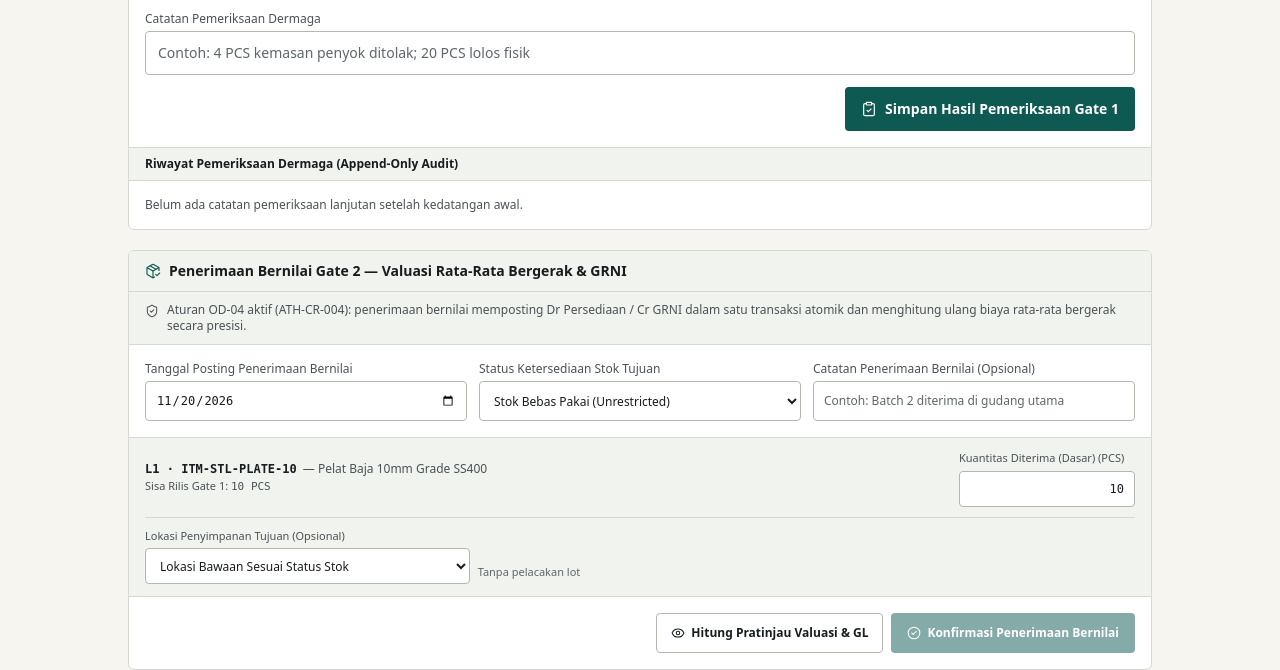
Test case: S07 Gate 2 Valued Acceptance & Inventory Valuation UI › enforces Gate 2 preview-before-confirm, closed-period blocking, and invalidation on edit
(page scrolled)
Check: the element with id "gate2-acceptance-panel" is shown, box x1=128 y1=250 x2=1152 y2=669
Check: the button with id "gate2-confirm-btn" is disabled, box x1=892 y1=613 x2=1135 y2=653
# Closed period preview keeps confirm button disabled & surfaces period_closed block
Type "2026-10-15" into the date field with id "gate2-acceptance-date" at (306, 401), box x1=145 y1=381 x2=467 y2=421
Click the button with id "gate2-preview-btn" at (770, 633), box x1=656 y1=613 x2=883 y2=653
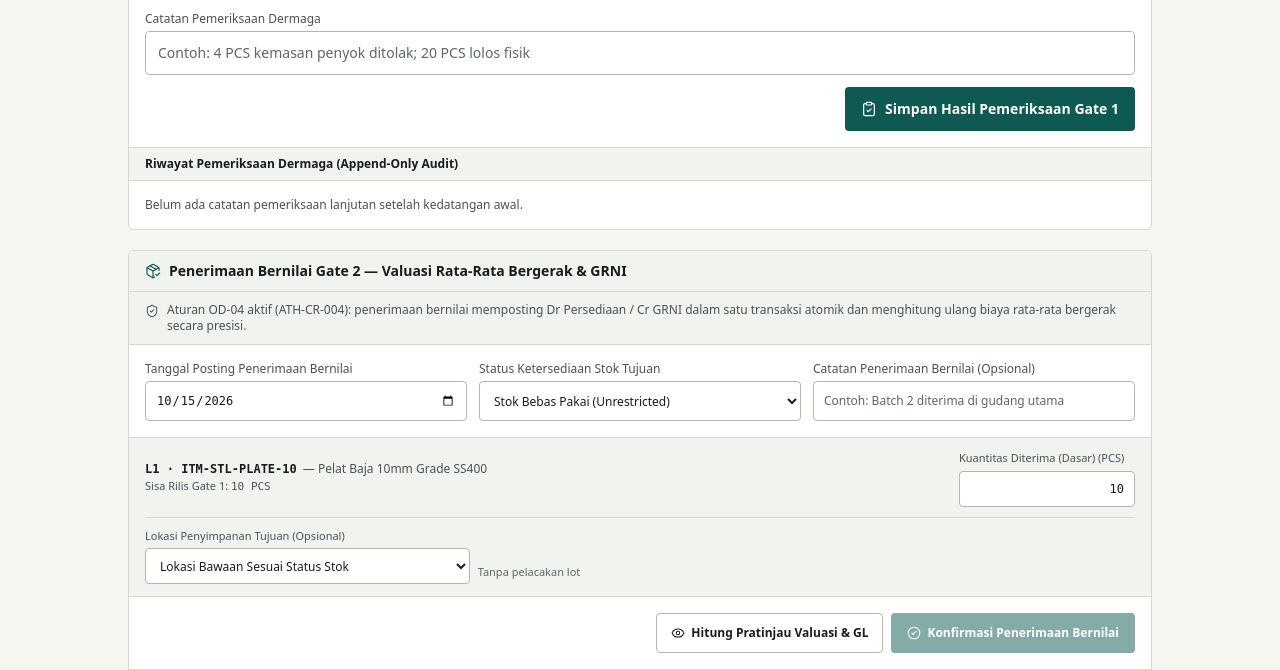
Check: the button with id "gate2-confirm-btn" is disabled, box x1=892 y1=613 x2=1135 y2=653
# Valid open period unlocks confirm button and displays moving-average recalculation
Type "2026-11-10" into the date field with id "gate2-acceptance-date" at (306, 401), box x1=145 y1=381 x2=467 y2=421
(page scrolled)
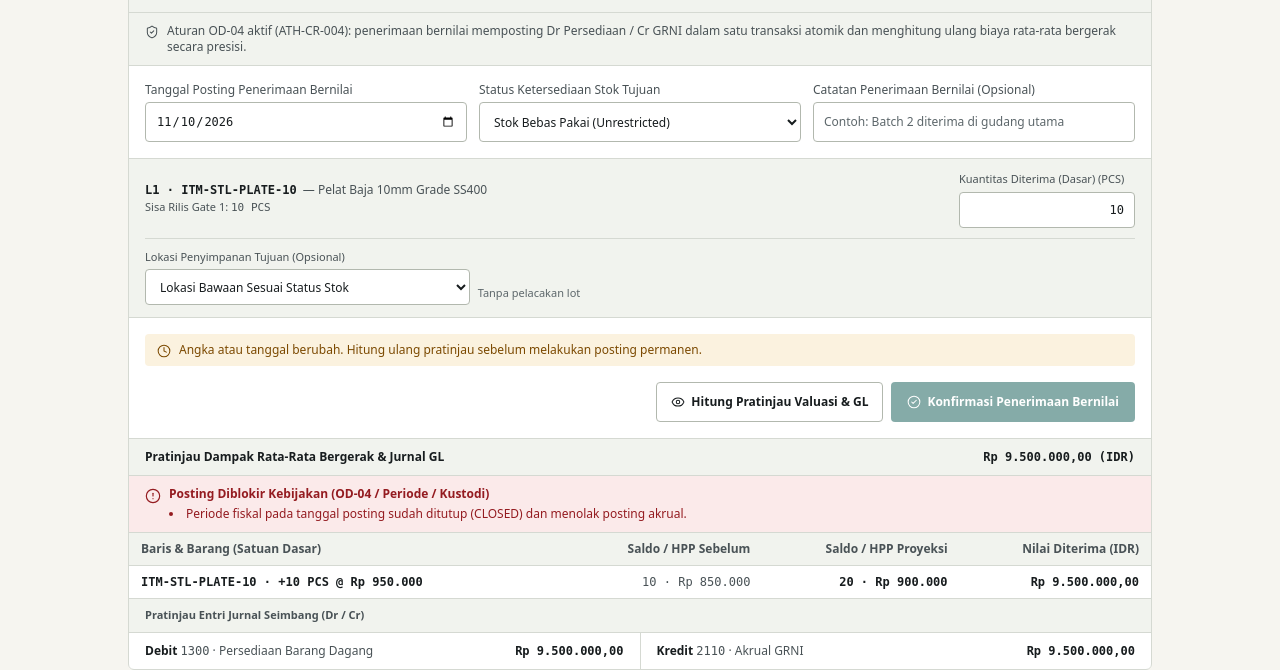
Click the button with id "gate2-preview-btn" at (770, 402), box x1=656 y1=382 x2=883 y2=422
(page scrolled)
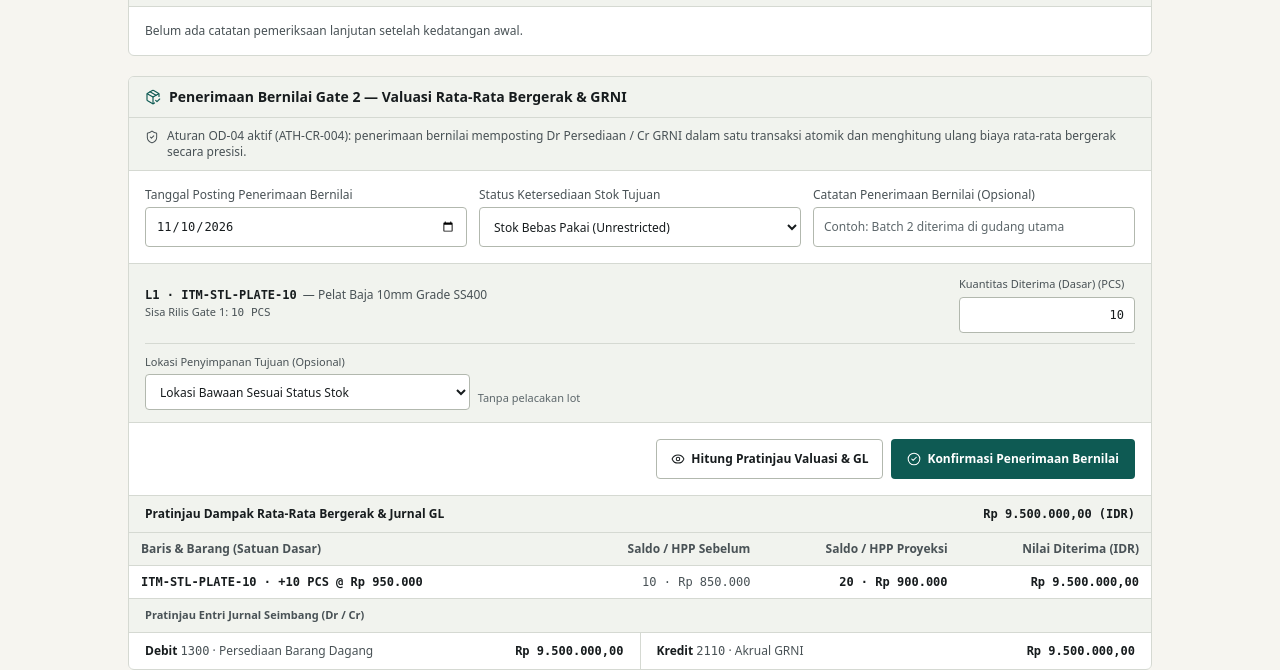
Check: the element with id "gate2-preview-card" is shown, box x1=129 y1=496 x2=1151 y2=668
Check: the button with id "gate2-confirm-btn" is enabled, box x1=892 y1=439 x2=1135 y2=479
# Editing quantity invalidates preview and disables confirm until recalculated
Replace the text in the field with id "gate2-qty-0" with "5" at (1047, 314), box x1=959 y1=296 x2=1135 y2=332
(page scrolled)
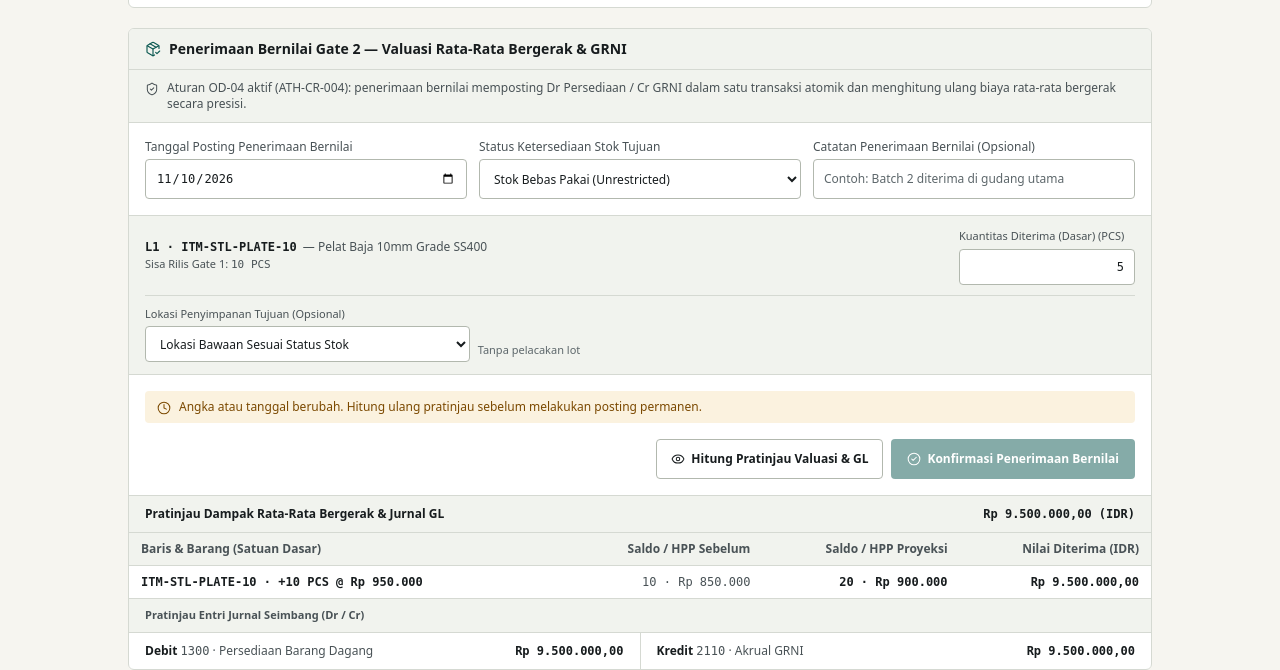
Check: the button with id "gate2-confirm-btn" is disabled, box x1=892 y1=439 x2=1135 y2=479
Replace the text in the field with id "gate2-qty-0" with "10" at (1047, 266), box x1=959 y1=248 x2=1135 y2=284
Click the button with id "gate2-preview-btn" at (770, 459), box x1=656 y1=439 x2=883 y2=479
(page scrolled)
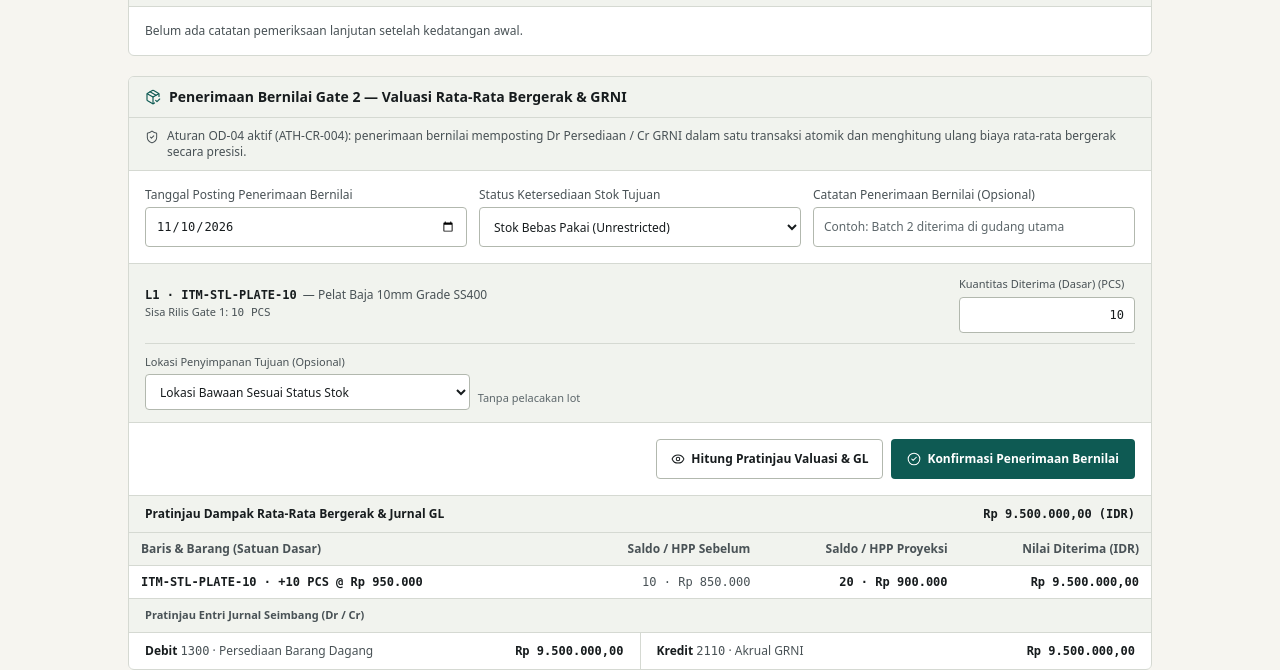
Check: the button with id "gate2-confirm-btn" is enabled
Click the button with id "gate2-confirm-btn" at (1013, 459), box x1=892 y1=439 x2=1135 y2=479
(page scrolled)
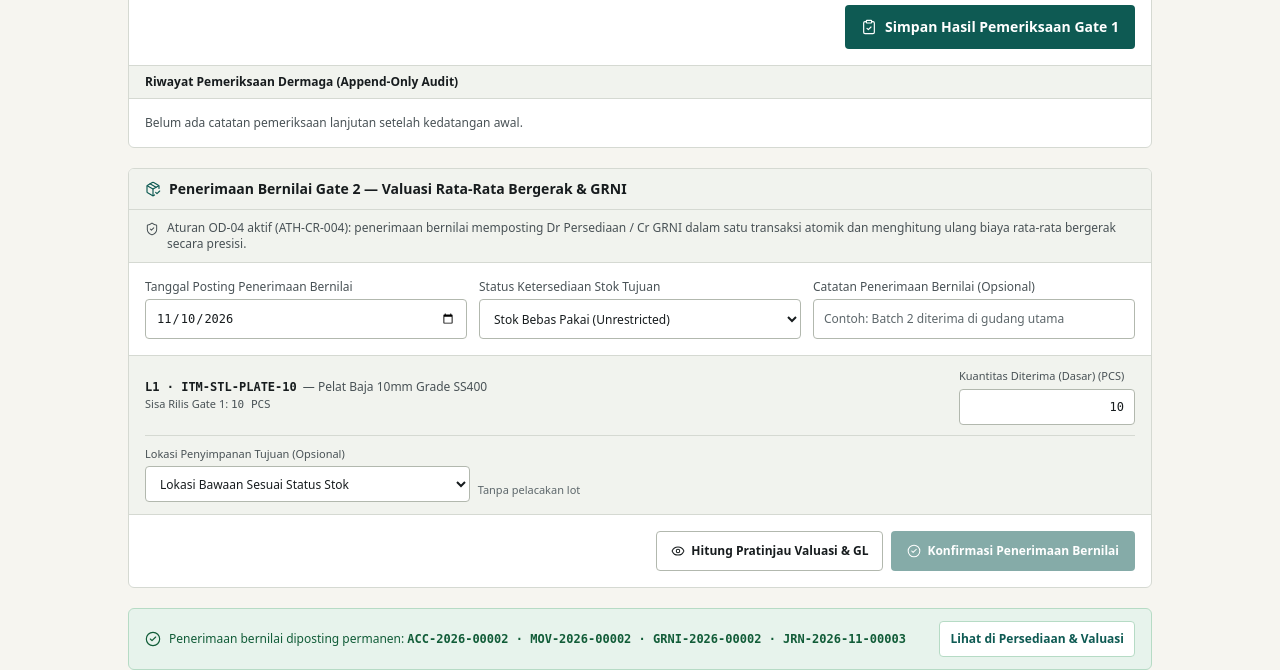
Check: the message with id "gate2-success-banner" shows "ACC-2026-00002", box x1=407 y1=632 x2=509 y2=646
Check: the message with id "gate2-success-banner" shows "GRNI-2026-00002", box x1=653 y1=632 x2=761 y2=646
